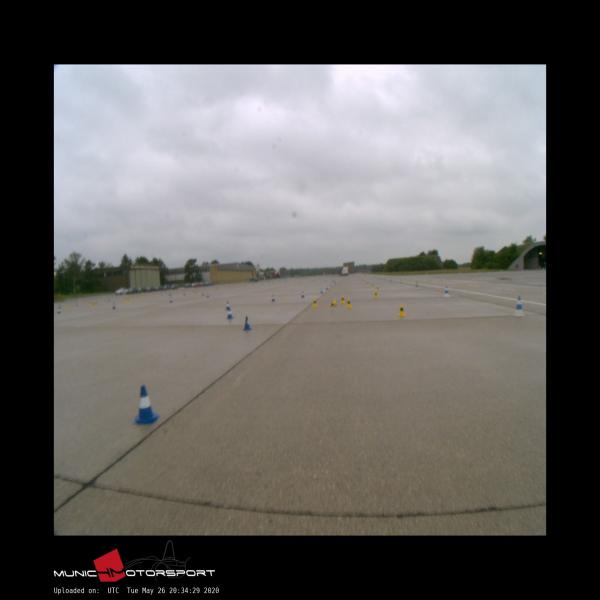blue_cone: (133, 386, 159, 425), (243, 316, 251, 329), (226, 308, 232, 318), (226, 301, 230, 310), (272, 294, 276, 301), (301, 291, 305, 298)
yellow_cone: (398, 304, 406, 317), (346, 298, 352, 307), (312, 298, 318, 307), (329, 300, 337, 306), (340, 295, 345, 303), (374, 290, 378, 298)
